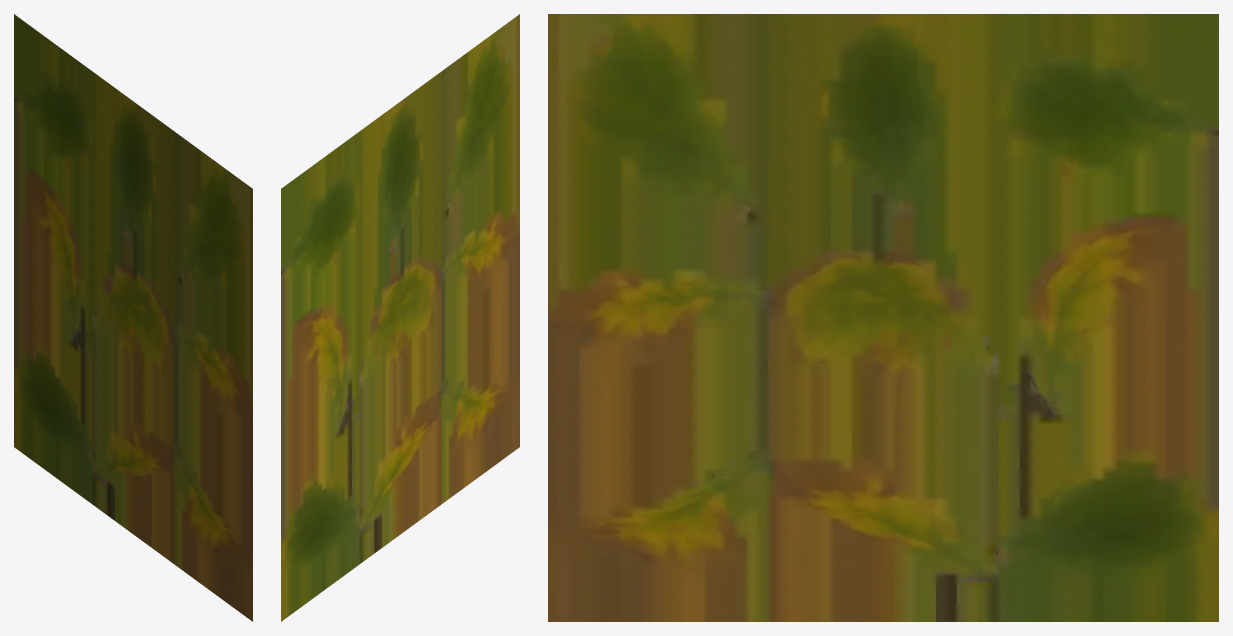
3 renders of one model, left to right at view 1: azimuth 30°, elevation 25°; view 2: azimuth 150°, elevation 25°; view 3: azimuth 270°, elevation 25°, orthographic. The views are drawn at different scales.
Visible parts, largest first — view 1: SM_VFX_Leaf_LOD0; view 2: SM_VFX_Leaf_LOD0; view 3: SM_VFX_Leaf_LOD0.
Boxes of the visible parts, box(x1,y1,x2,y2) form: SM_VFX_Leaf_LOD0: box(14, 14, 252, 621); SM_VFX_Leaf_LOD0: box(281, 14, 519, 621); SM_VFX_Leaf_LOD0: box(548, 14, 1218, 621).
Size of the model in its own units: 0 by 0.01 by 0.01.
1 material, 1 textured.
